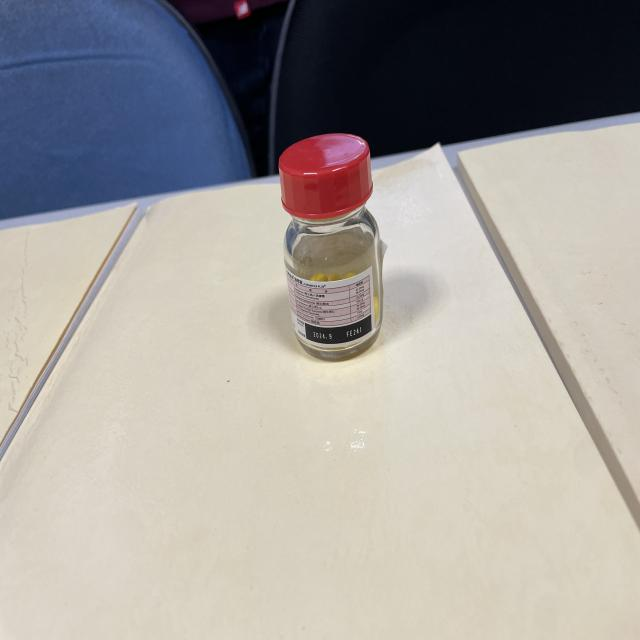Medicine-Jar: (261, 129, 398, 366)
